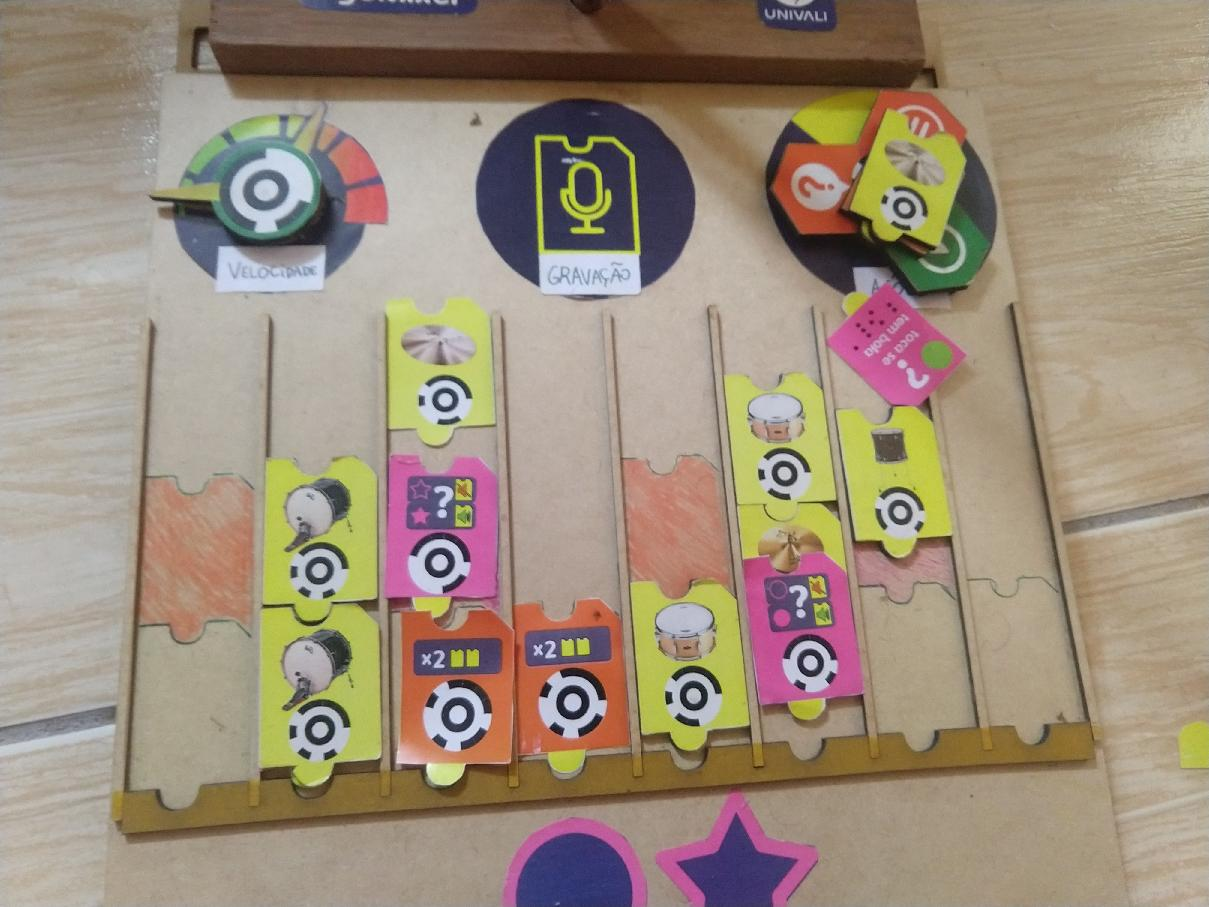bumbo: (260, 604, 381, 783), (264, 454, 380, 624)
